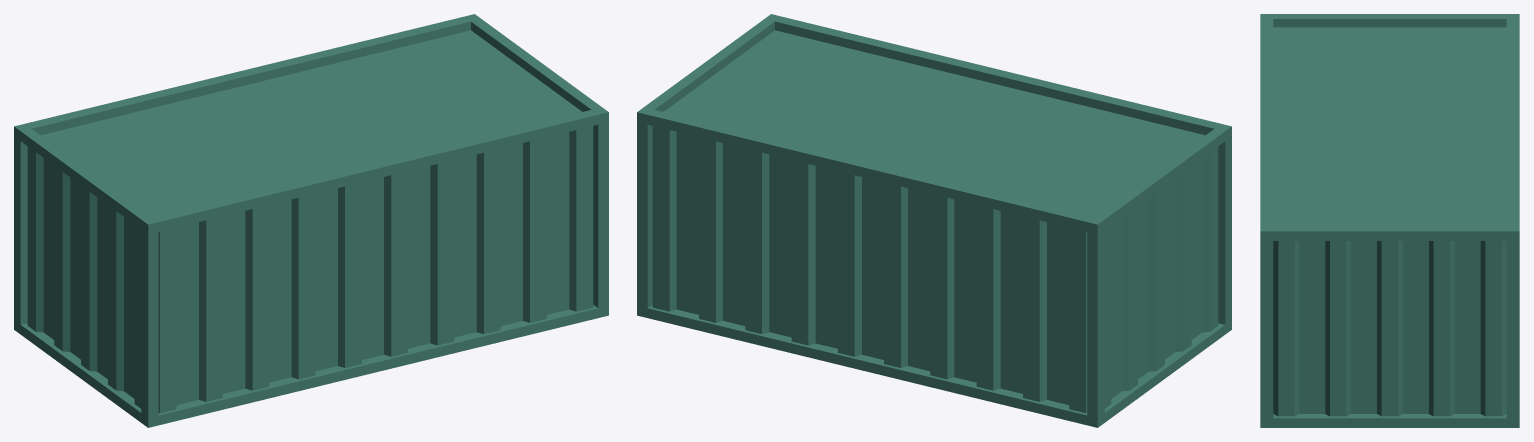
Rendered from container 1.fbx.
3 renders of one model, left to right at view 1: azimuth 30°, elevation 25°; view 2: azimuth 150°, elevation 25°; view 3: azimuth 270°, elevation 25°, orthographic. The views are drawn at different scales.
Parts seen in each view (by area): view 1: container1; view 2: container1; view 3: container1.
Part boxes in pixels (left/top/right/bottom): container1: left=14, top=14, right=608, bottom=427; container1: left=637, top=14, right=1231, bottom=427; container1: left=1260, top=14, right=1519, bottom=427.
Size of the model in its own units: 2.61 by 1.1 by 1.32.
